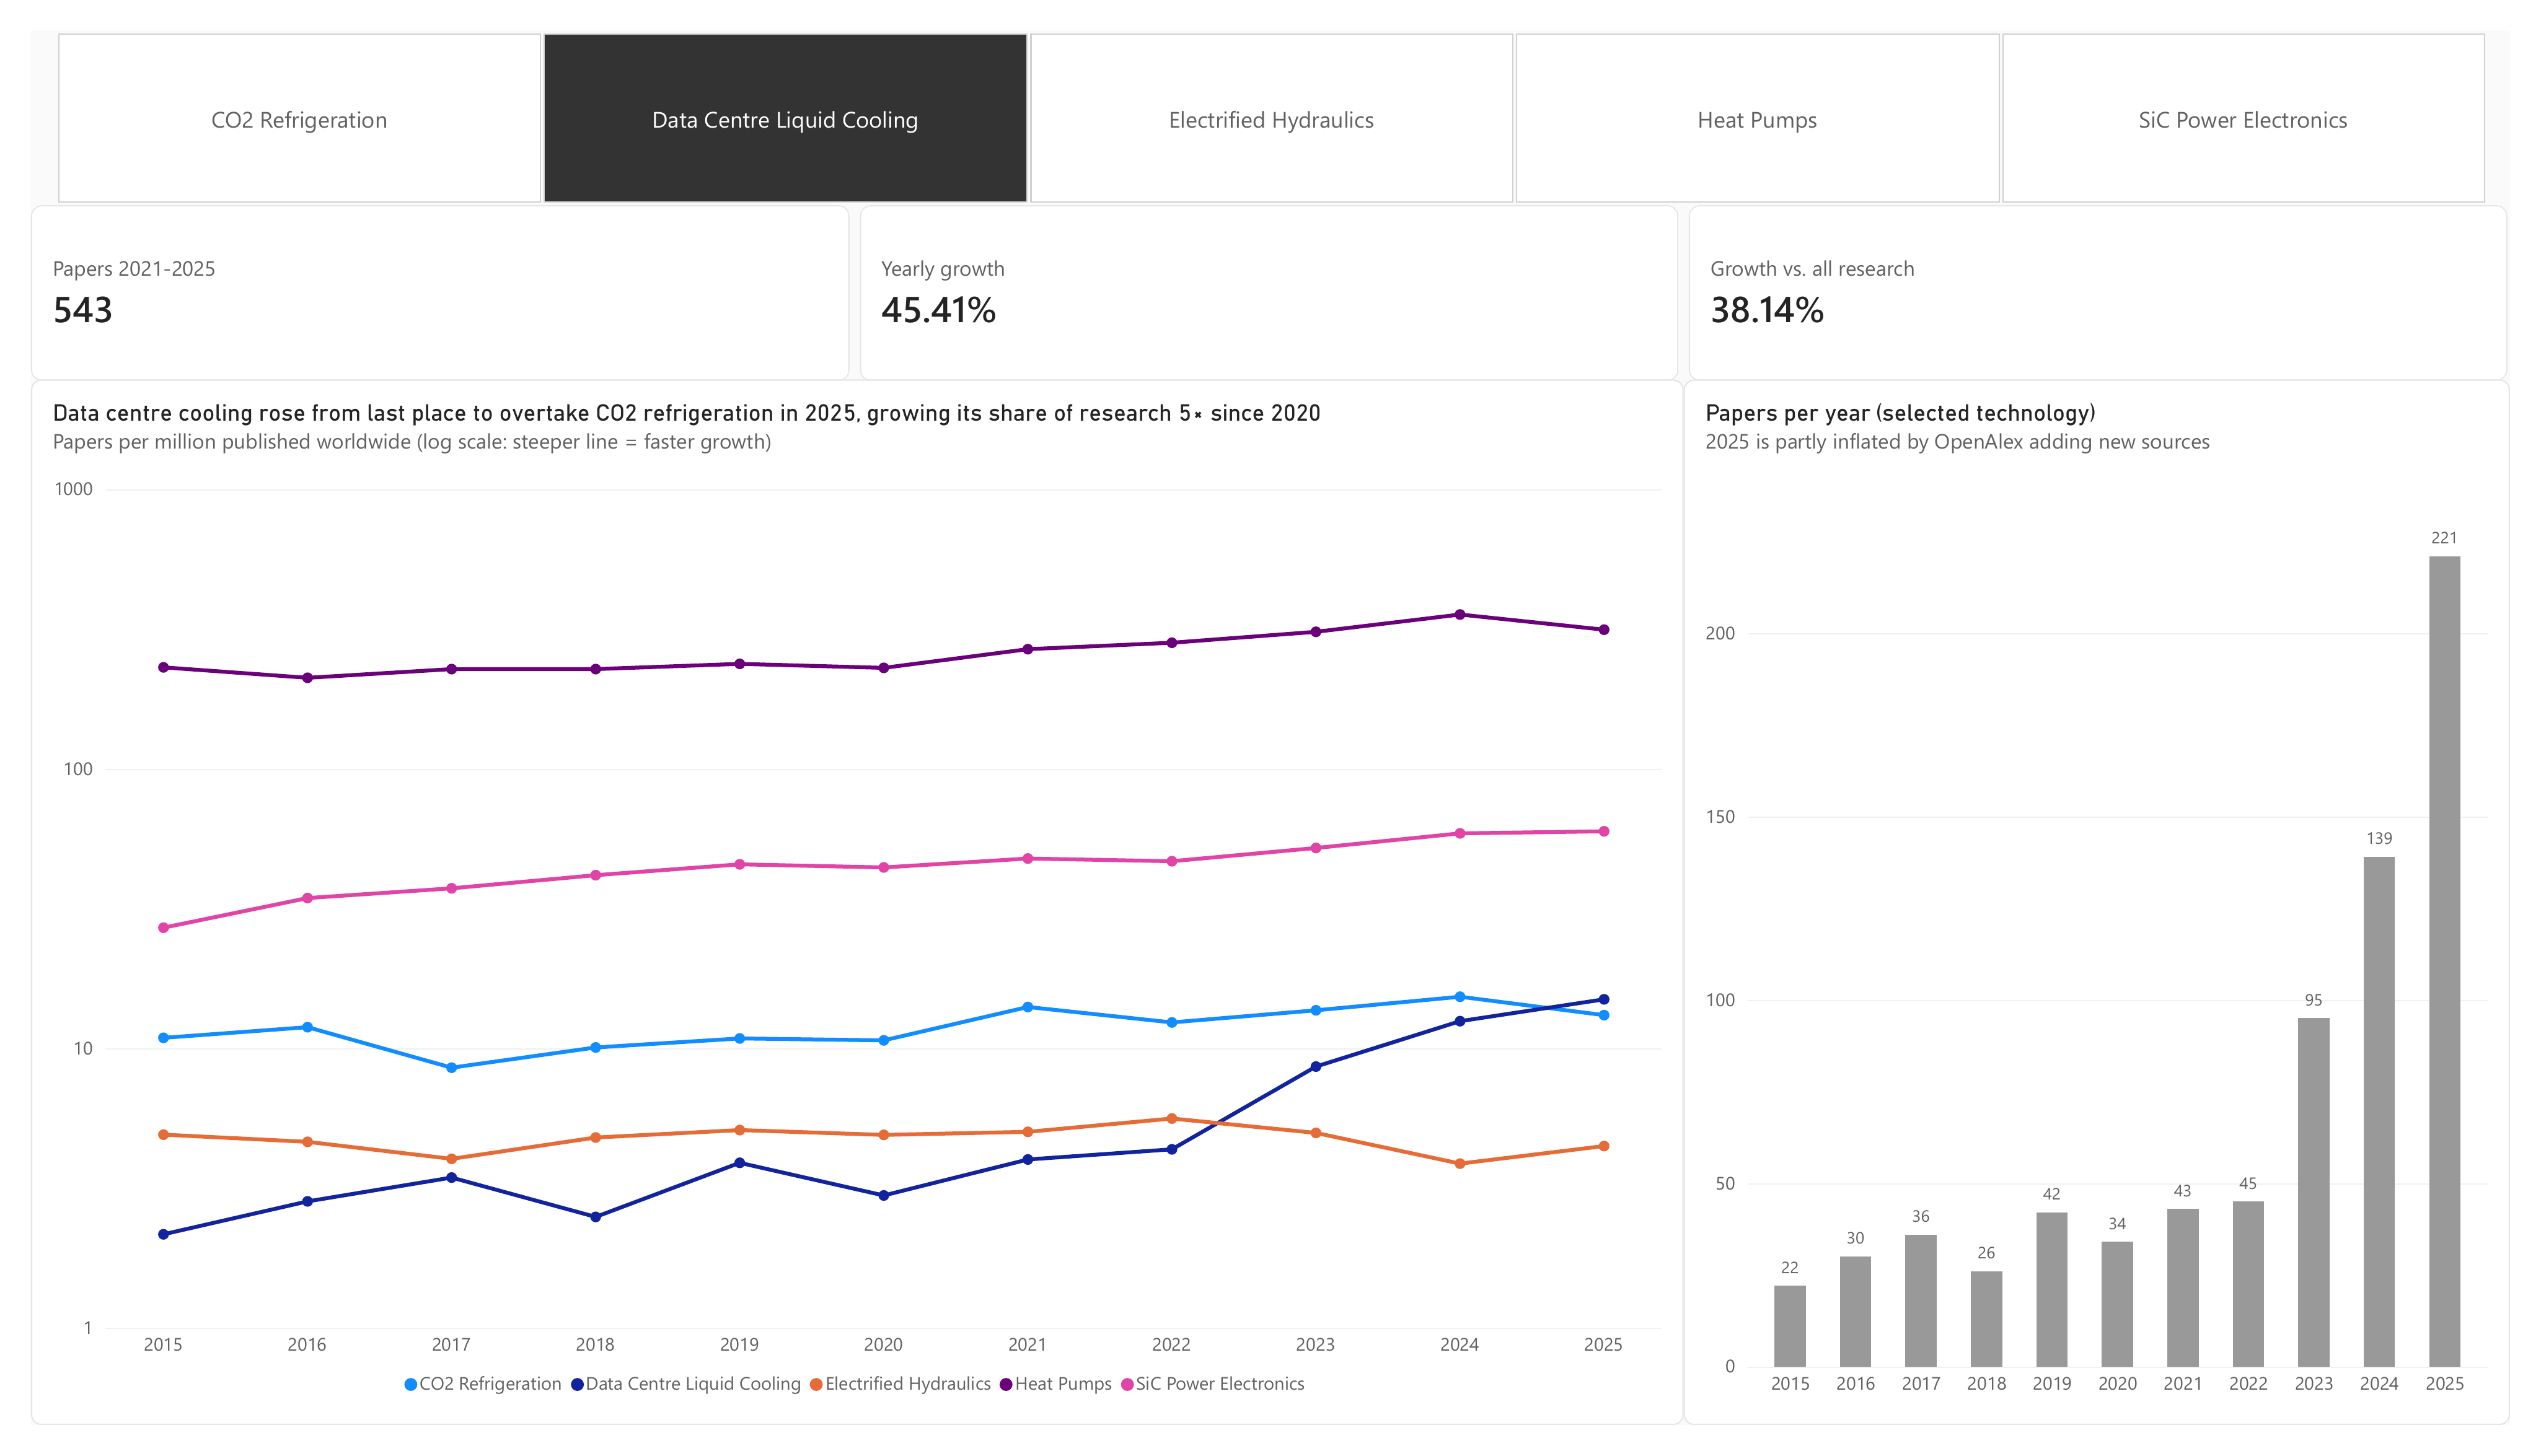

The page's visual inventory and layout, read from the dashboard file:
{"tool":"powerbi","page":{"name":"Trends","canvas":[1920,1080],"ordinal":1},"visuals":[{"type":"slicer","fields":{"Values":["Technology.technology"]},"box":[0,0,1920.1,135],"z":0},{"type":"cardVisual","fields":{"Data":["_Measures.Papers 2021-2025","_Measures.CAGR 5y","_Measures.Relative CAGR 5y"]},"box":[0,135.4,1919.7,135.4],"z":1000},{"type":"lineChart","title":"Data centre cooling rose from last place to overtake CO2 refrigeration in 2025, growing its share of research 5× since 2020","fields":{"Category":["Year.year"],"Series":["Technology.technology"],"Y":["_Measures.Papers per Million"]},"box":[0,270.5,1280,809.5],"z":2000},{"type":"clusteredColumnChart","title":"Papers per year (selected technology)","fields":{"Category":["Year.year"],"Y":["_Measures.Papers"]},"box":[1280,270,640,810],"z":3000}]}

Visuals, with their boxes on the page's 1920x1080 design canvas (x1, y1, x2, y2). These are canvas units, not pixel positions in the 2541x1456 screenshot, which may show the page scaled, cropped or inside an application window:
slicer - Technology.technology: 0,0,1920,135
cardVisual - _Measures.Papers 2021-2025 x _Measures.CAGR 5y: 0,135,1920,271
"Data centre cooling rose from last place to overtake CO2 refrigeration in 2025, growing its share of research 5× since 2020" lineChart: 0,270,1280,1080
"Papers per year (selected technology)" clusteredColumnChart: 1280,270,1920,1080
